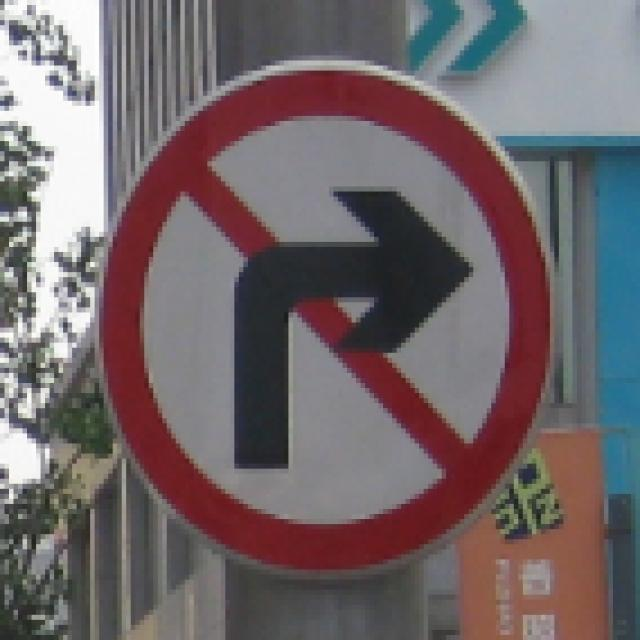Not that Direction: (103, 58, 550, 556)
